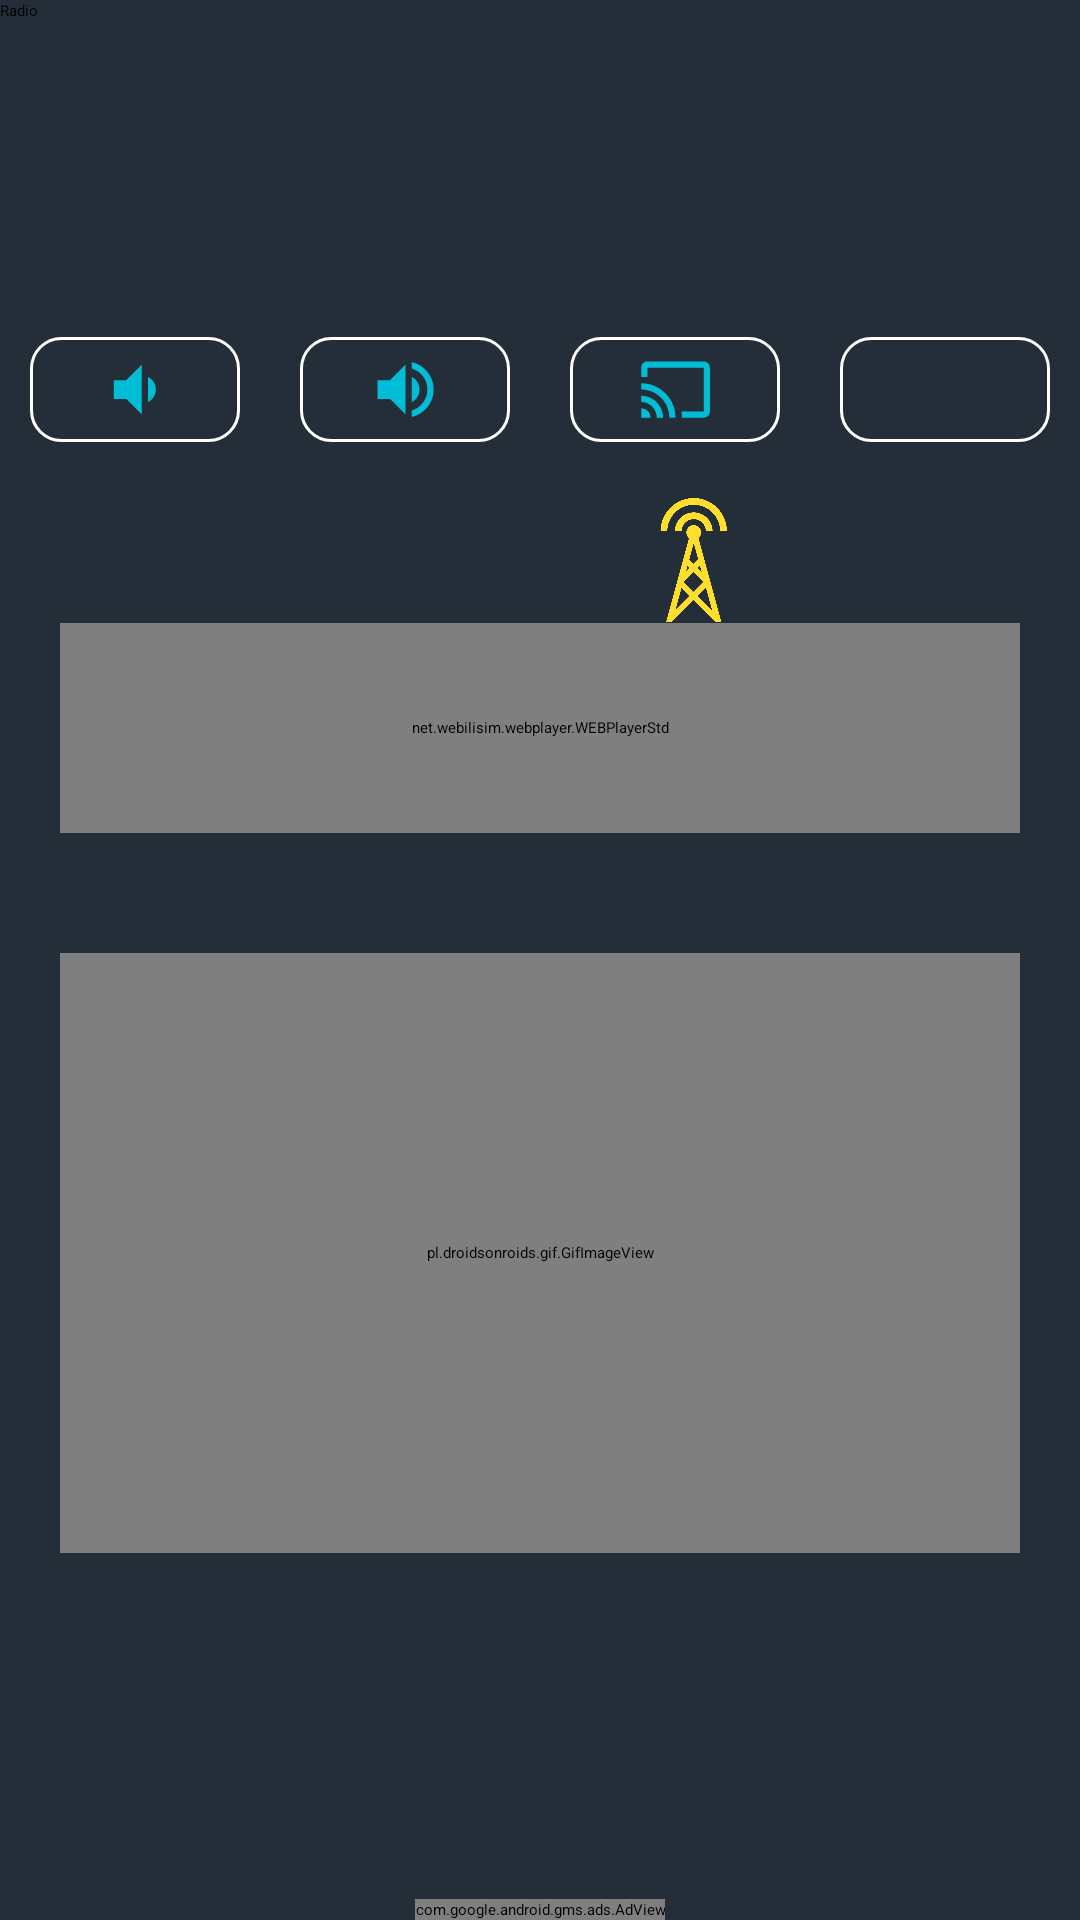

Icon click points for this 1080w x 1920h phone screenshot, format (x,y):
cast: (675,389)
volume down: (135,389)
volume up: (405,389)
